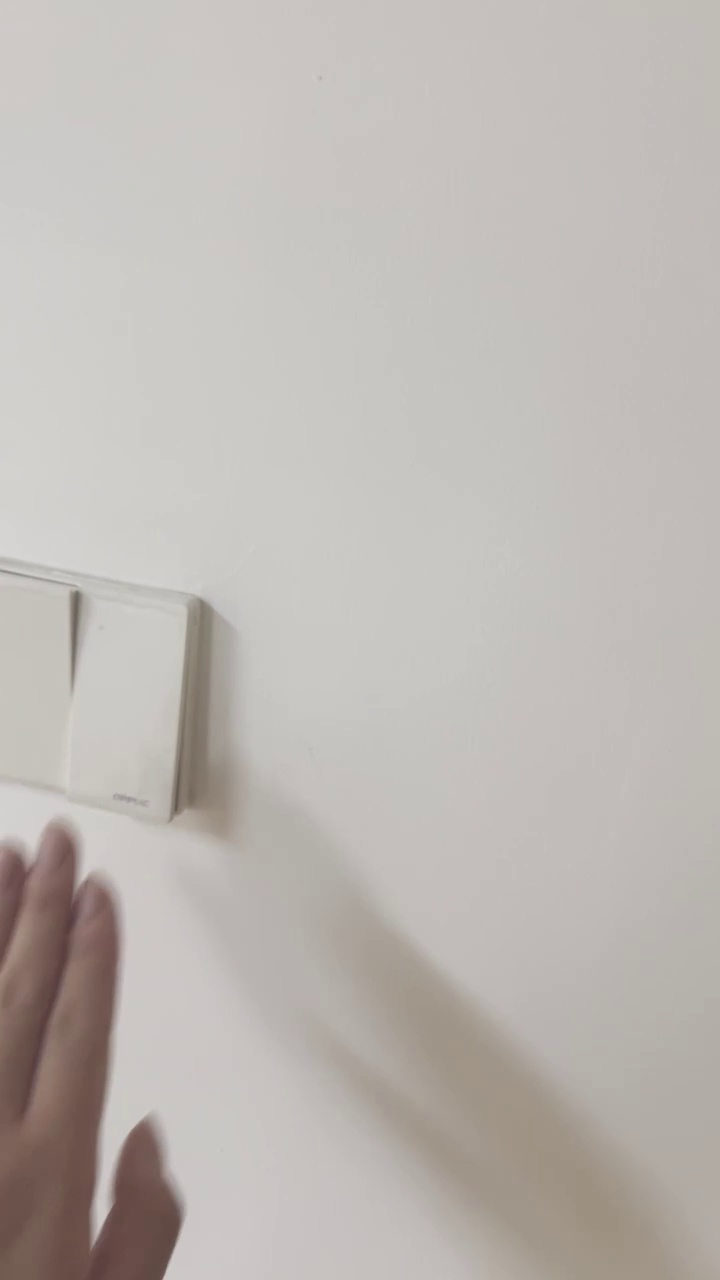button: (1, 546, 207, 833)
